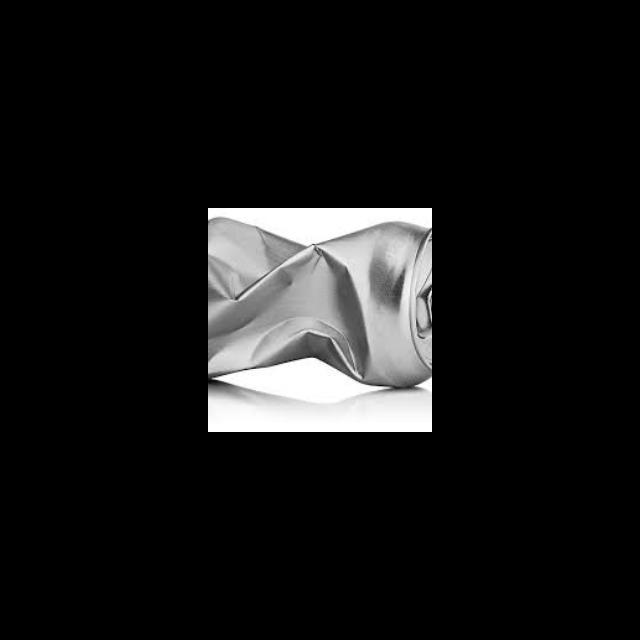metal: (208, 214, 432, 405)
